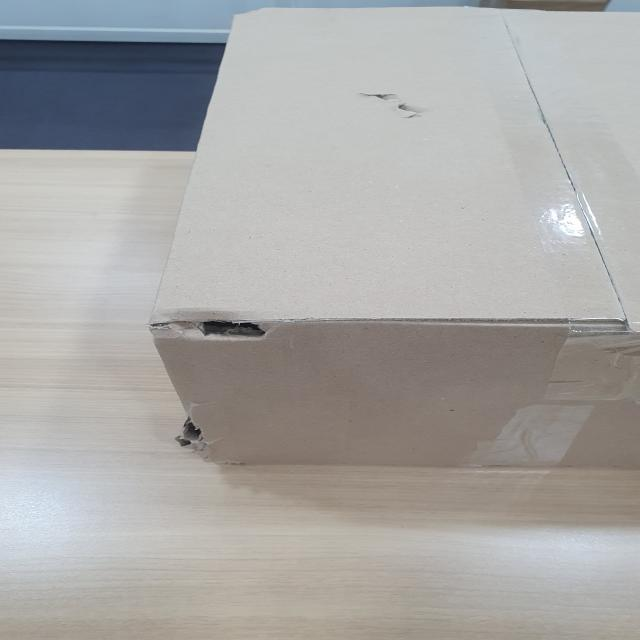hole: (150, 306, 271, 346), (361, 87, 442, 131), (173, 415, 215, 457)
